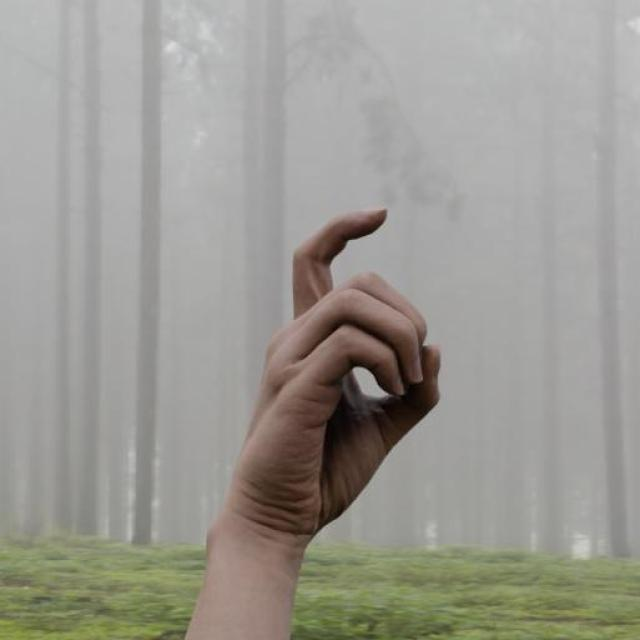X: (199, 206, 448, 543)
